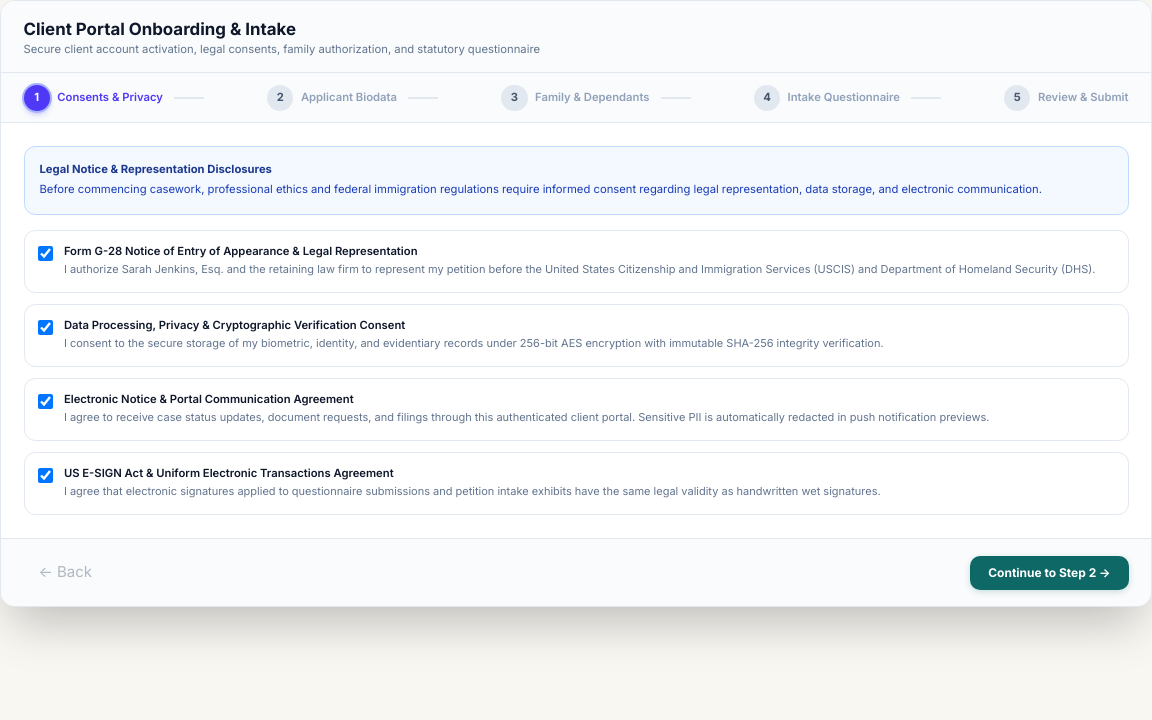
Phase 7 — Client Portal, Requests, Messaging, and Notifications › ClientOnboardingWizard Component › navigates through all 5 guided intake steps
Check: the heading "Legal Notice & Representation Disclosures" is shown, box [40, 162, 272, 176]
Check: the text "Form G-28 Notice of Entry of Appearance" is shown, box [64, 244, 418, 258]
Note: Continue to Step 2: Biodata
Click the button "Continue to Step 2 →" at [1049, 572], box [970, 556, 1128, 590]
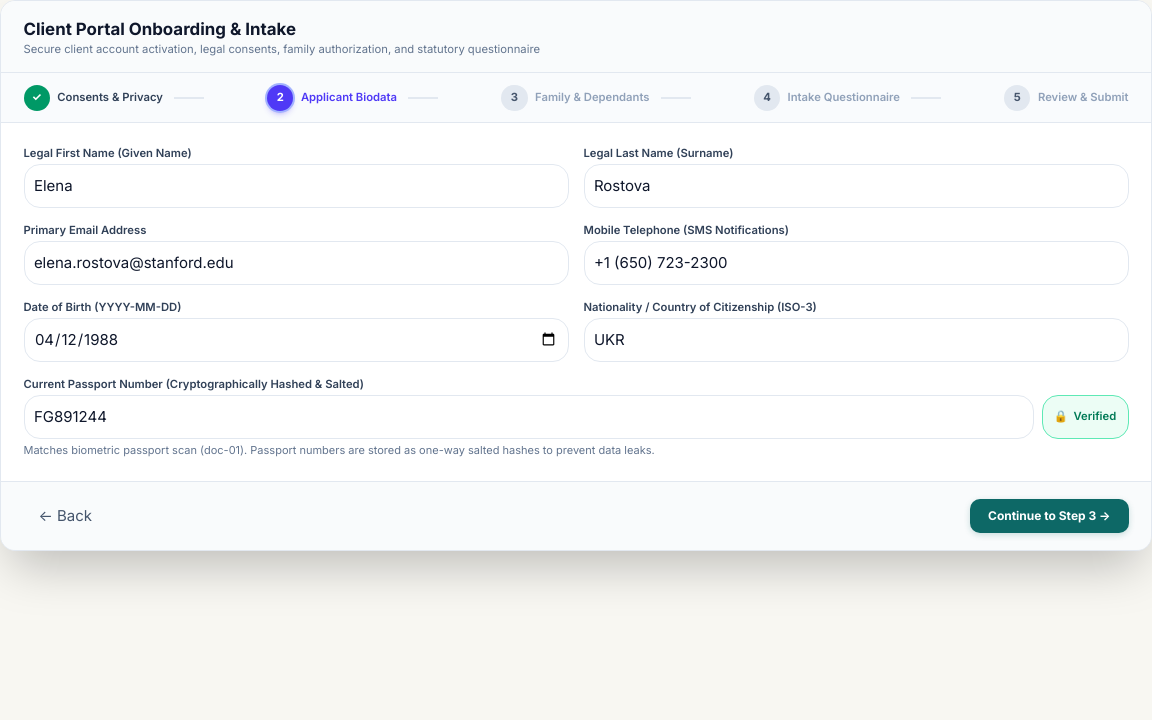
Check: the text "Legal First Name (Given Name)" is shown, box [24, 146, 192, 160]
Check: the text "Current Passport Number (Cryptographically Hashed & Salted)" is shown, box [24, 376, 364, 390]
Note: Continue to Step 3: Dependants
Click the button "Continue to Step 3 →" at [1049, 516], box [970, 499, 1128, 533]
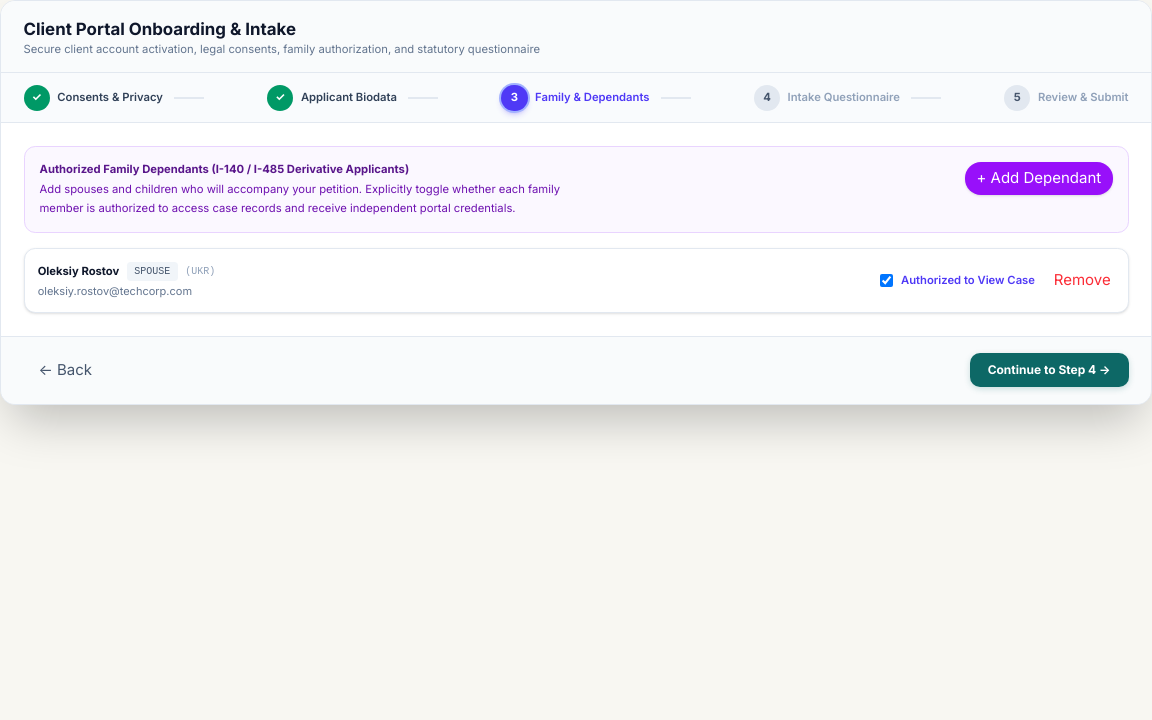
Check: the heading "Authorized Family Dependants" is shown, box [40, 162, 409, 176]
Check: the text "Authorized to View Case" is shown, box [901, 273, 1035, 288]
Note: Continue to Step 4: Questionnaire
Click the button "Continue to Step 4 →" at [1049, 370], box [970, 353, 1128, 387]
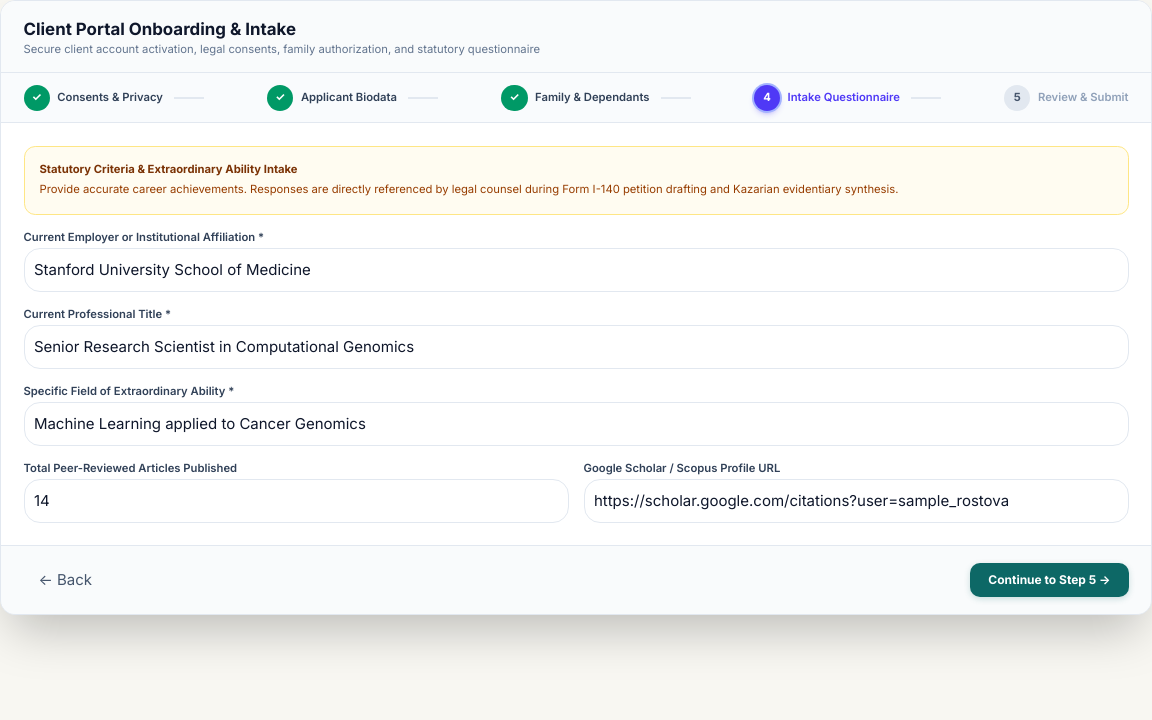
Check: the heading "Statutory Criteria & Extraordinary Ability Intake" is shown, box [40, 162, 298, 176]
Check: the text "Current Employer or Institutional Affiliation *" is shown, box [24, 230, 264, 244]
Note: Continue to Step 5: Review
Click the button "Continue to Step 5 →" at [1049, 580], box [970, 563, 1128, 597]
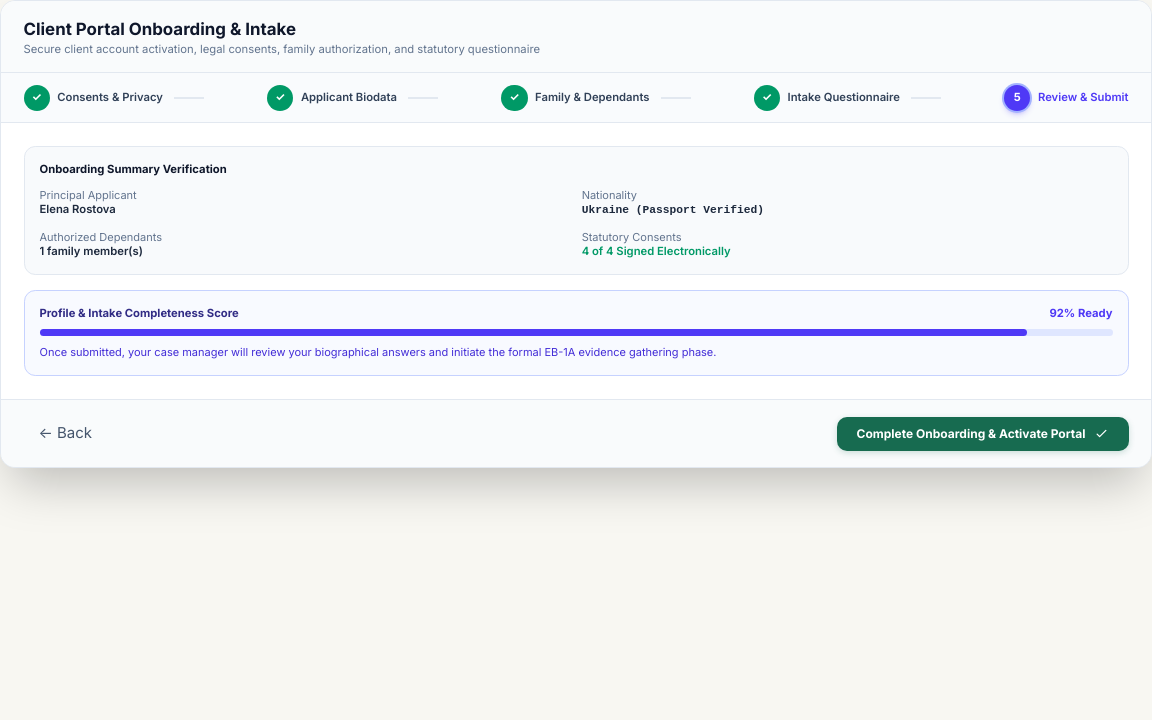
Check: the heading "Onboarding Summary Verification" is shown, box [40, 162, 227, 176]
Check: the text "Complete Onboarding & Activate Portal" is shown, box [857, 425, 1086, 443]
